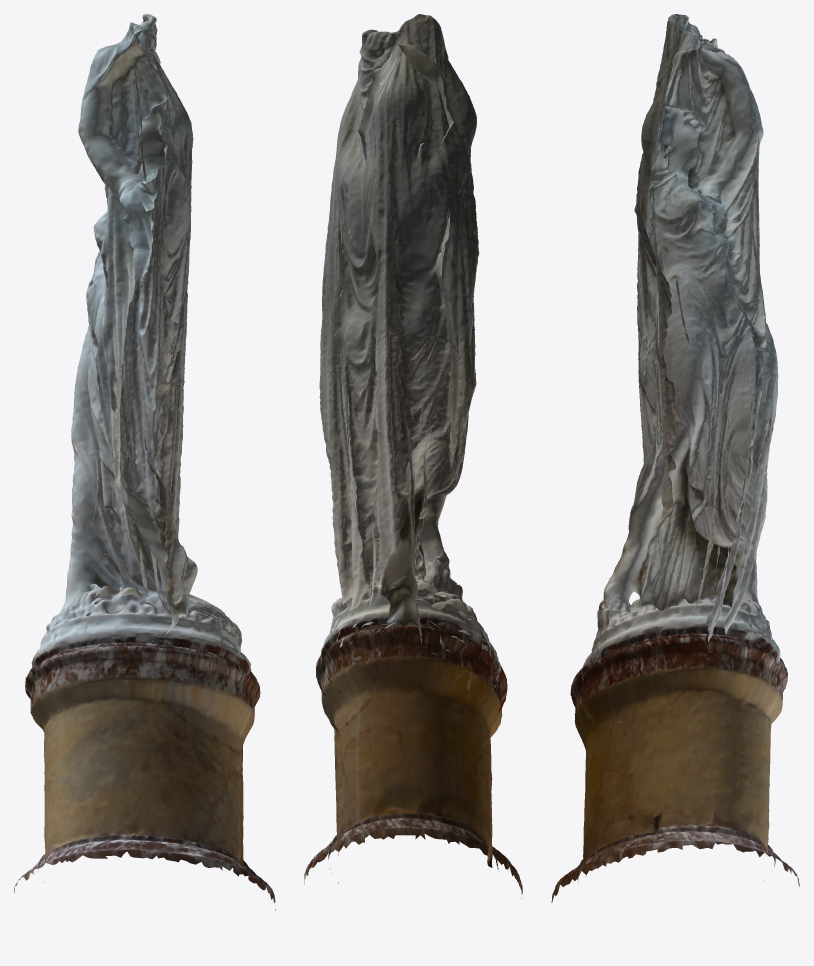
Rendered from preview.glb.
The picture shows the model from 3 angles, left to right: view 1: azimuth 30°, elevation 25°; view 2: azimuth 150°, elevation 25°; view 3: azimuth 270°, elevation 25°; orthographic projection.
Bounding box in the file's own units: 0.4857 × 1.96 × 0.5018.
Materials: 1 (1 with a texture image).
